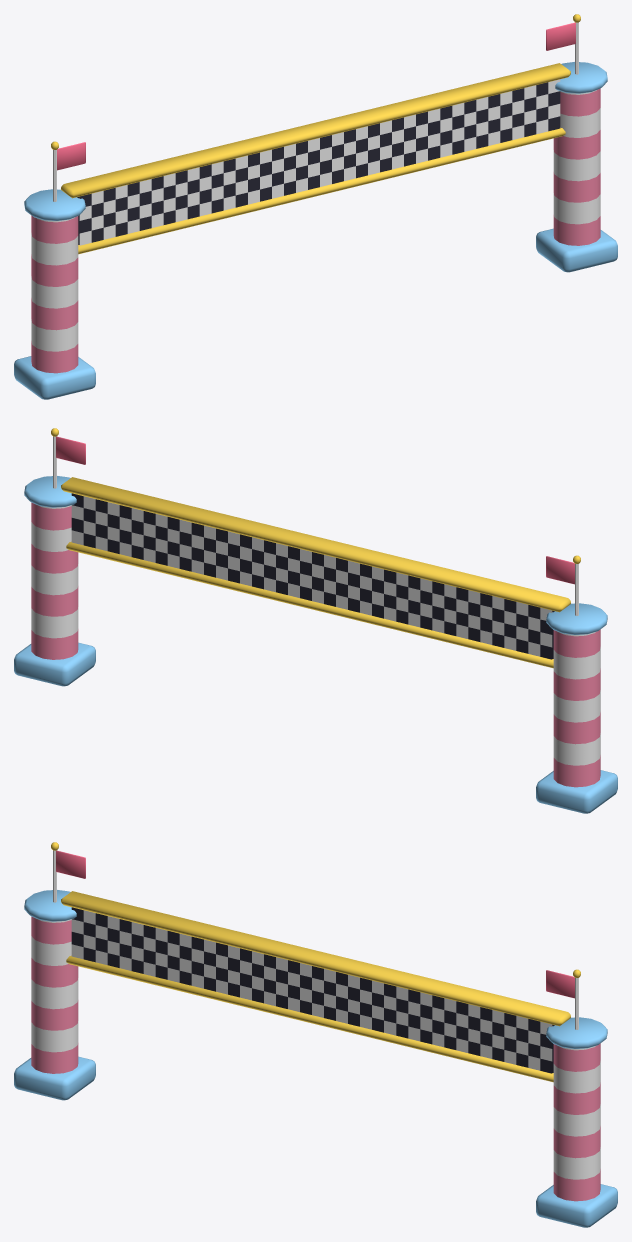
Rendered from finish.glb.
3 renders of one model, top to bottom at view 1: azimuth 30°, elevation 25°; view 2: azimuth 150°, elevation 25°; view 3: azimuth 330°, elevation 25°, orthographic.
Visible parts, largest first — view 1: FinishMesh; view 2: FinishMesh; view 3: FinishMesh.
Boxes of the visible parts, left/top/right/bottom form: FinishMesh: left=14, top=14, right=617, bottom=399; FinishMesh: left=14, top=428, right=617, bottom=813; FinishMesh: left=14, top=842, right=617, bottom=1227.
Bounding box in the file's own units: 16.8 × 6.76 × 1.6.
